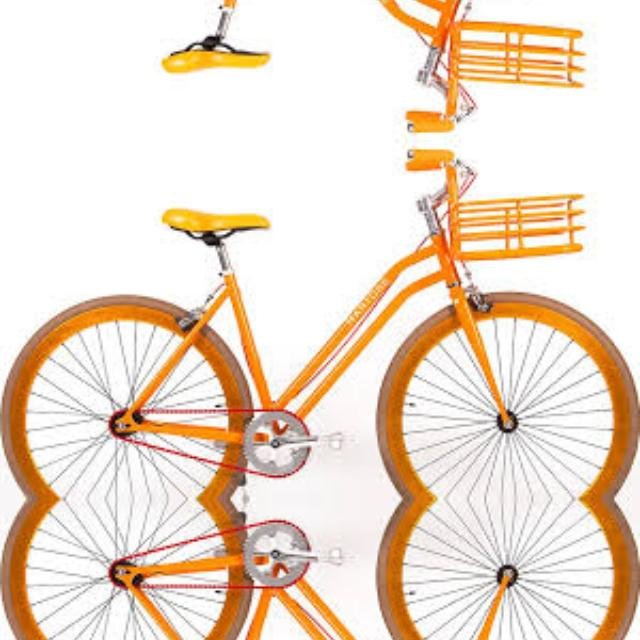obstacle: (5, 145, 640, 498), (5, 498, 640, 640), (5, 0, 640, 134)
